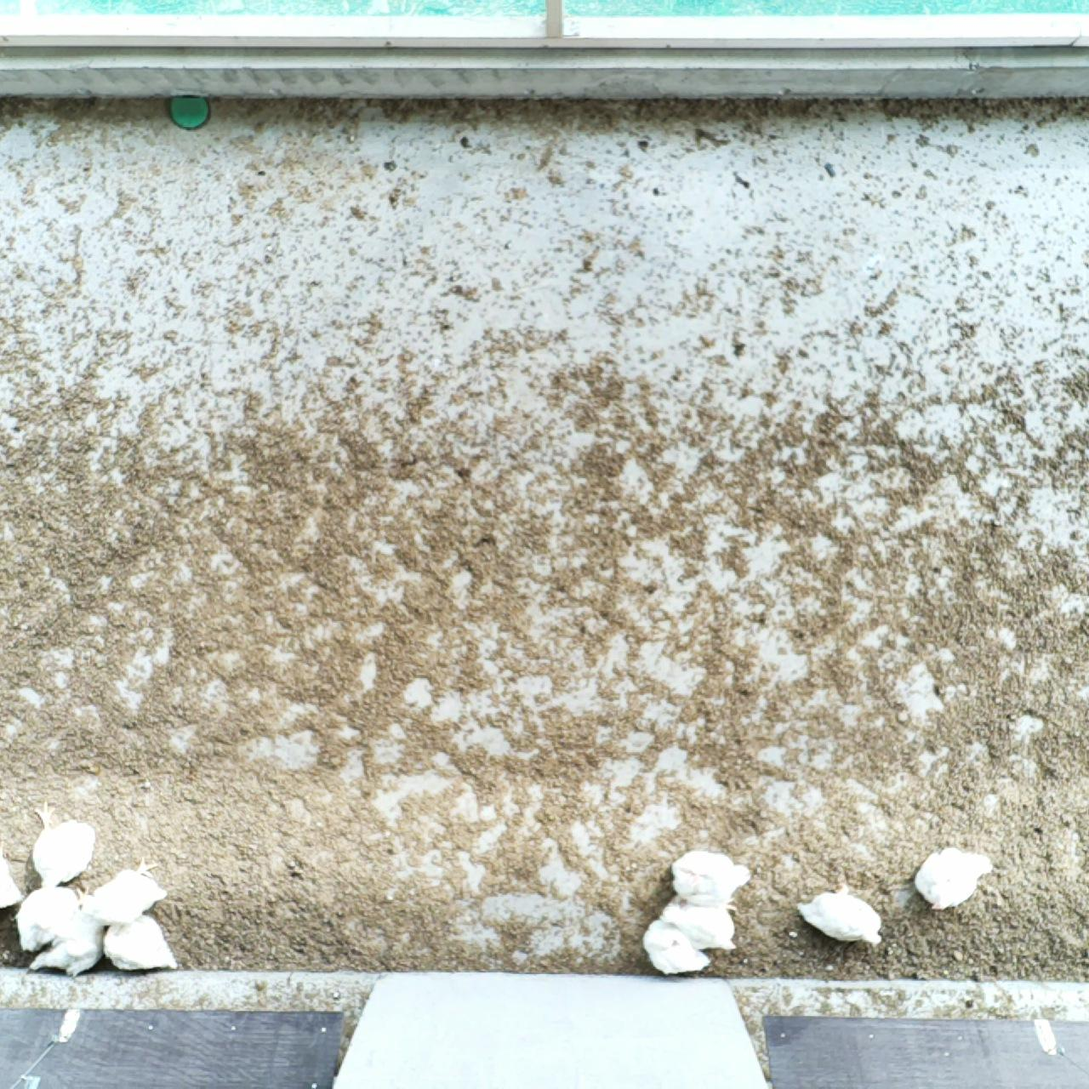chicken: (790, 877, 887, 949), (27, 796, 98, 888), (82, 856, 170, 927), (912, 845, 995, 917), (15, 886, 92, 955), (656, 892, 743, 953), (670, 850, 755, 905), (102, 914, 179, 974), (643, 919, 711, 979), (29, 936, 104, 980), (0, 852, 26, 915)
